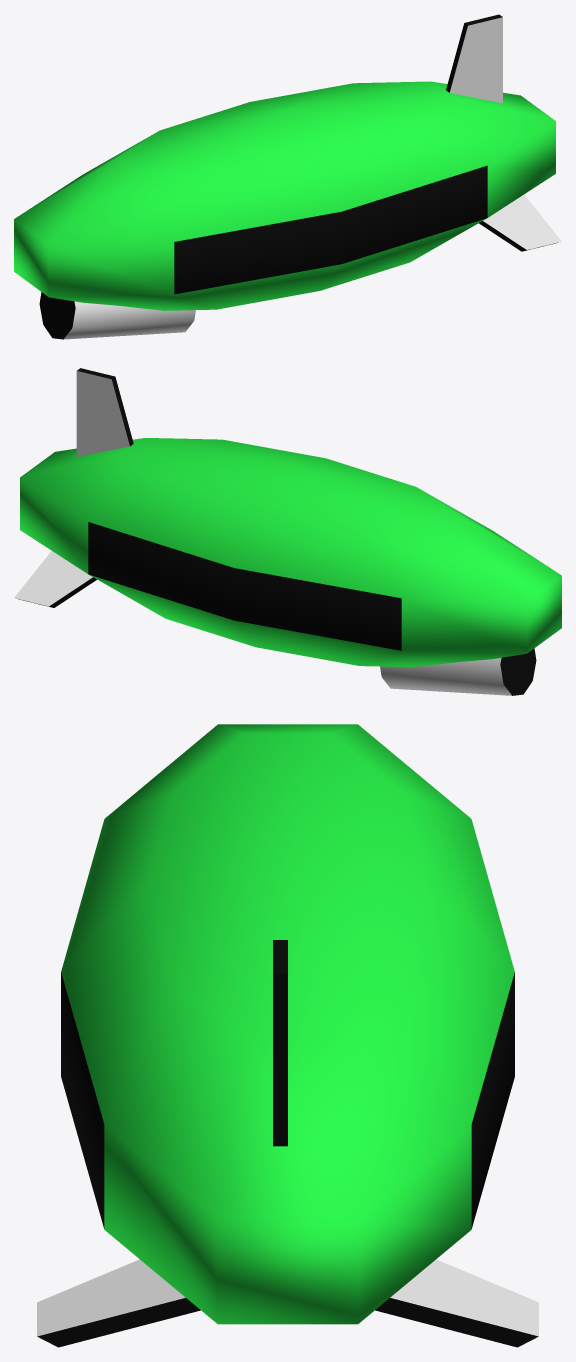
The model's file is MMBlimp.FBX.
3 views of the same model, one above another, from view 1: azimuth 30°, elevation 25°; view 2: azimuth 150°, elevation 25°; view 3: azimuth 270°, elevation 25° (orthographic). The views are drawn at different scales.
Parts seen in each view (by area): view 1: MMblimp; view 2: MMblimp; view 3: MMblimp.
Boxes of the visible parts, box(x1,y1,x2,y2) form: MMblimp: box(14, 14, 561, 339); MMblimp: box(14, 368, 561, 695); MMblimp: box(37, 724, 538, 1347).
Bounding box in the file's own units: 42.73 × 19.11 × 18.32.
